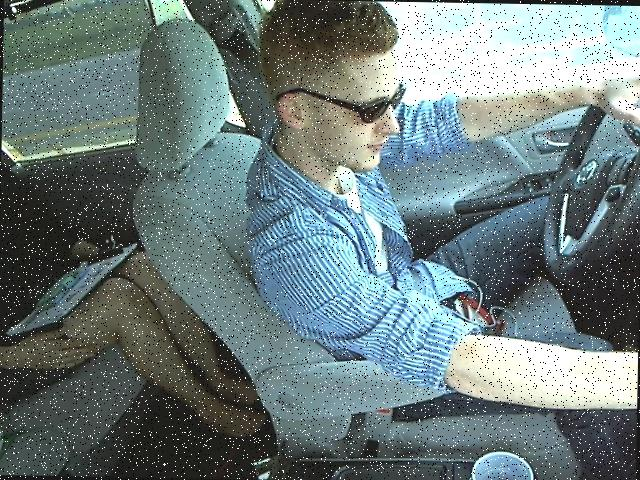c3 - Operating the Radio: (249, 1, 639, 416)
